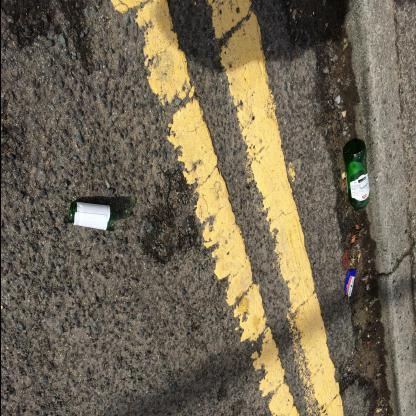cam: (343, 140, 371, 212), (69, 204, 117, 233)
plastik: (343, 270, 357, 299)
